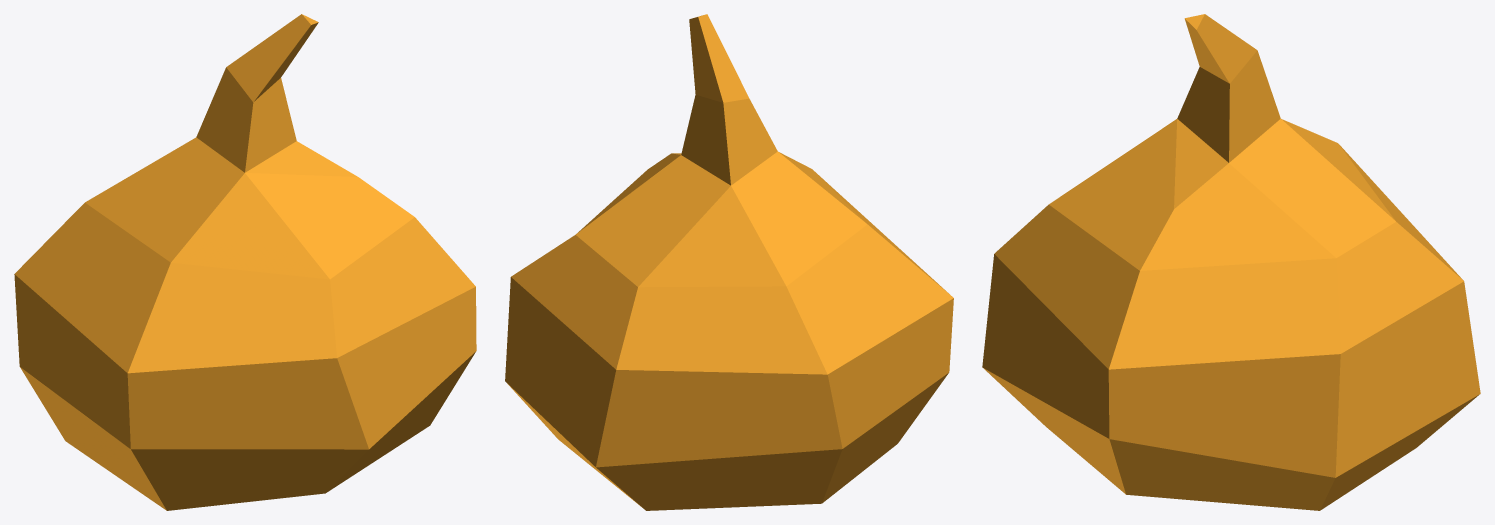
Rendered from SM_Onion.fbx.
The picture shows the model from 3 angles, left to right: view 1: azimuth 30°, elevation 25°; view 2: azimuth 150°, elevation 25°; view 3: azimuth 270°, elevation 25°; orthographic projection. The views are drawn at different scales.
Visible parts, largest first — view 1: onion; view 2: onion; view 3: onion.
Part boxes in pixels (box(x1,y1,x2,y2)): onion: box(14, 14, 476, 510); onion: box(505, 14, 953, 510); onion: box(982, 14, 1480, 510).
Bounding box in the file's own units: 0.1069 × 0.13 × 0.1206.
